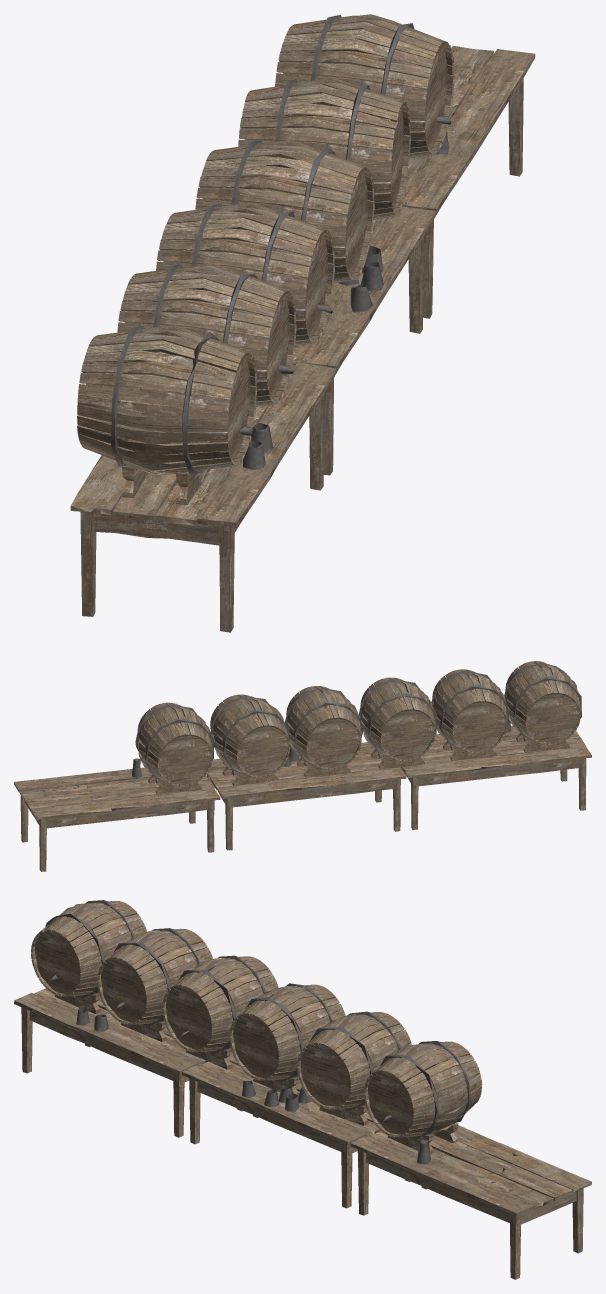
Rendered from SM_drinkstable.fbx.
3 renders of one model, top to bottom at view 1: azimuth 30°, elevation 25°; view 2: azimuth 150°, elevation 25°; view 3: azimuth 270°, elevation 25°, orthographic. The views are drawn at different scales.
Parts seen in each view (by area): view 1: SM_drinkstable_LOD0; view 2: SM_drinkstable_LOD0; view 3: SM_drinkstable_LOD0.
Part boxes in pixels (<box>): SM_drinkstable_LOD0: <box>70,14,535,632</box>; SM_drinkstable_LOD0: <box>14,661,591,871</box>; SM_drinkstable_LOD0: <box>14,900,591,1279</box>.
Bounding box in the file's own units: 732 × 731 × 228.
